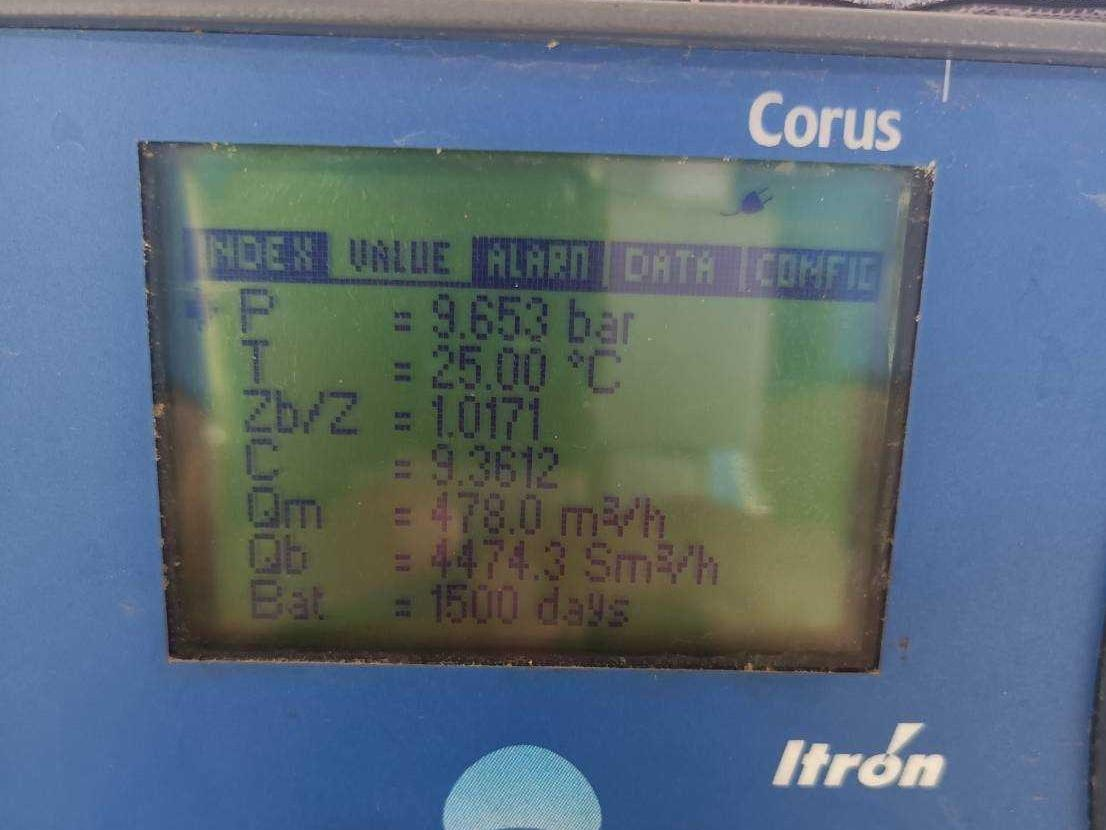digital_screen: (133, 144, 938, 668)
